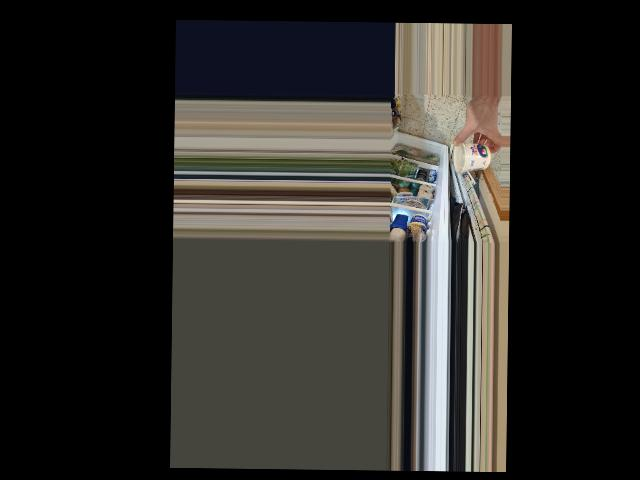cotage: (452, 141, 492, 172)
